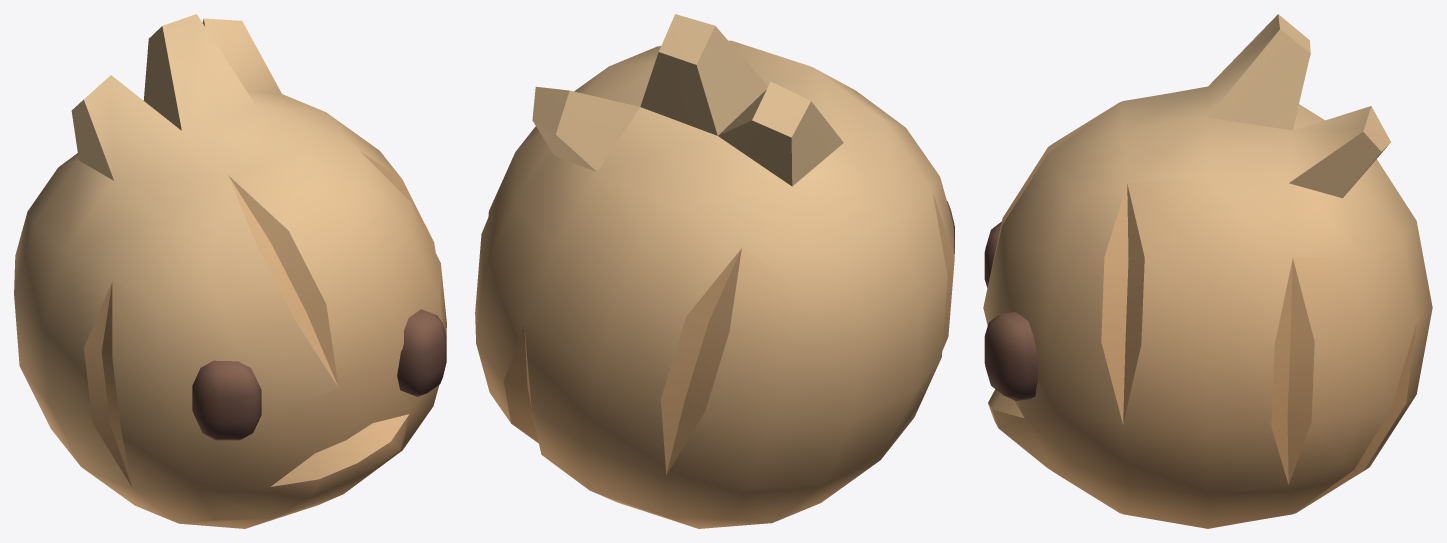
Rendered from Trainingdummy_Base_Trainingdummy_Post_Trainingdummy_Chest_Trainingdummy_Head.obj.
The picture shows the model from 3 angles, left to right: view 1: azimuth 30°, elevation 25°; view 2: azimuth 150°, elevation 25°; view 3: azimuth 270°, elevation 25°; orthographic projection. The views are drawn at different scales.
Visible parts, largest first — view 1: Trainingdummy_Head; view 2: Trainingdummy_Head; view 3: Trainingdummy_Head.
Boxes of the visible parts, x1=… form: Trainingdummy_Head: x1=14, y1=14, x2=446, y2=528; Trainingdummy_Head: x1=475, y1=14, x2=954, y2=528; Trainingdummy_Head: x1=983, y1=14, x2=1432, y2=528.
Size of the model in its own units: 0.877 by 1.04 by 0.8781.
Materials: 1 (1 with a texture image).
